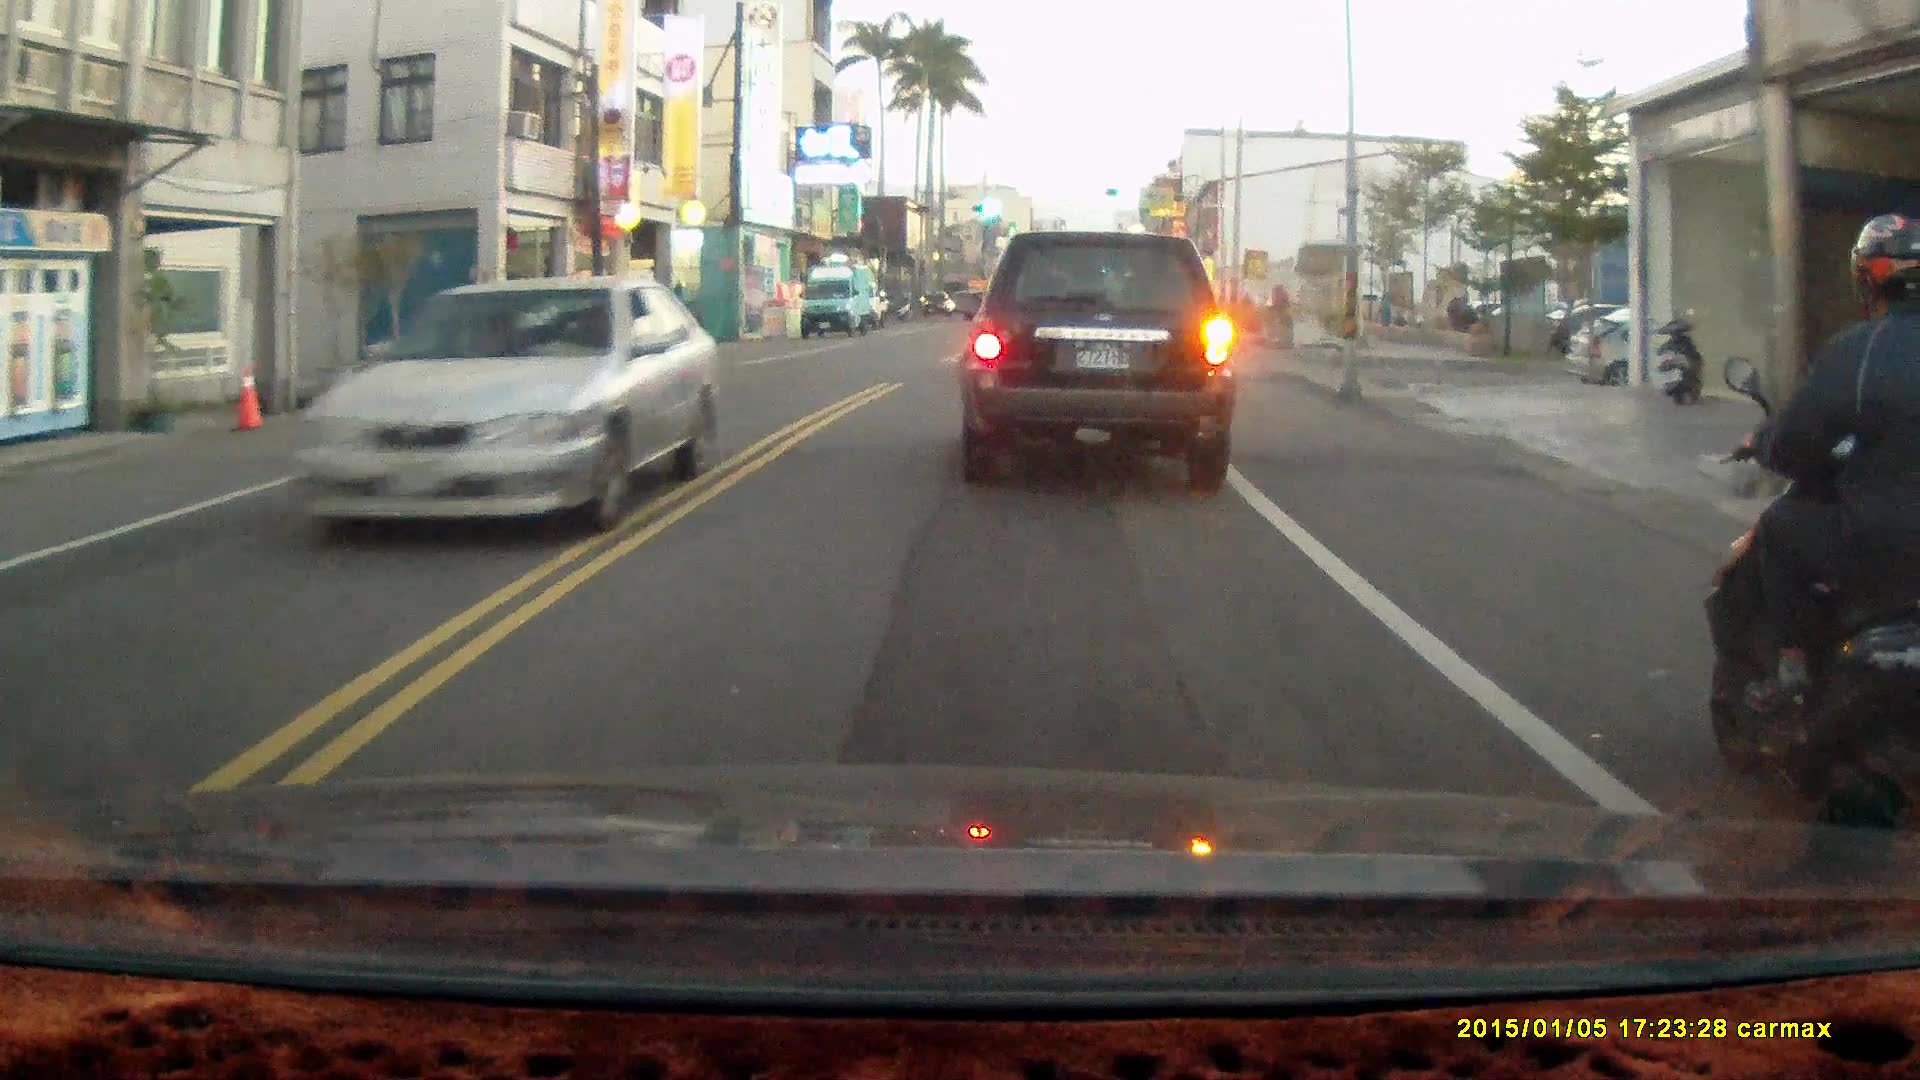rider: (1697, 211, 1919, 870)
vehicle: (287, 277, 722, 540), (963, 231, 1242, 497), (1563, 319, 1772, 393), (801, 266, 876, 343)
